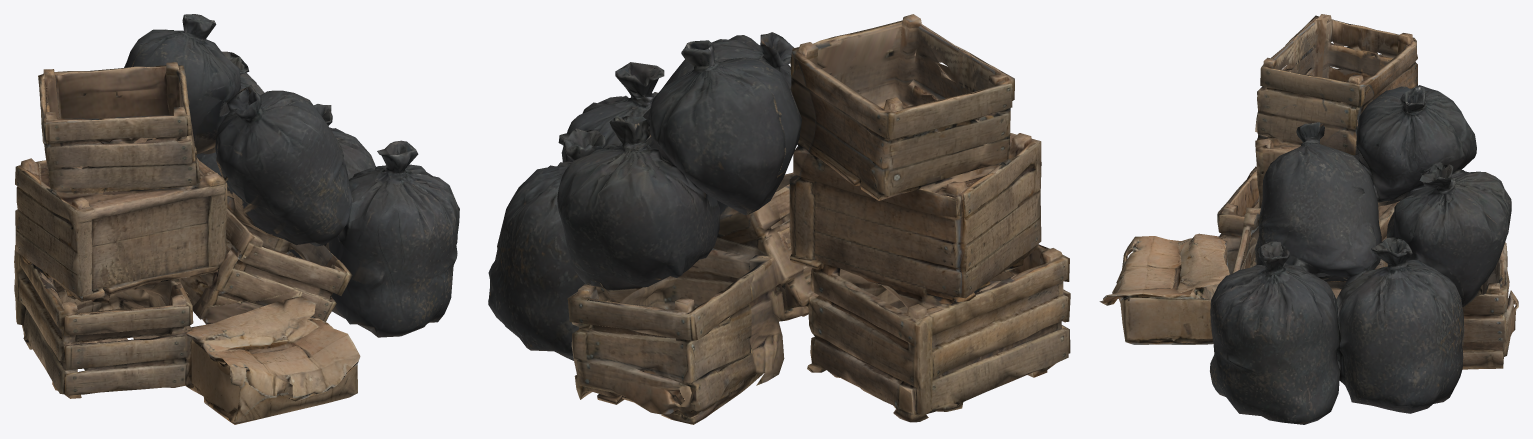
The model's file is TrashPile.glb.
3 views of the same model, side by side, from view 1: azimuth 30°, elevation 25°; view 2: azimuth 150°, elevation 25°; view 3: azimuth 270°, elevation 25° (orthographic). The views are drawn at different scales.
Visible parts, largest first — view 1: texture_mapping; view 2: texture_mapping; view 3: texture_mapping.
Boxes of the visible parts, box(x1,y1,x2,y2) form: texture_mapping: box(14, 14, 459, 424); texture_mapping: box(488, 14, 1070, 424); texture_mapping: box(1099, 14, 1518, 424).
Size of the model in its own units: 1 by 0.6581 by 0.9656.
1 material, 1 textured.
